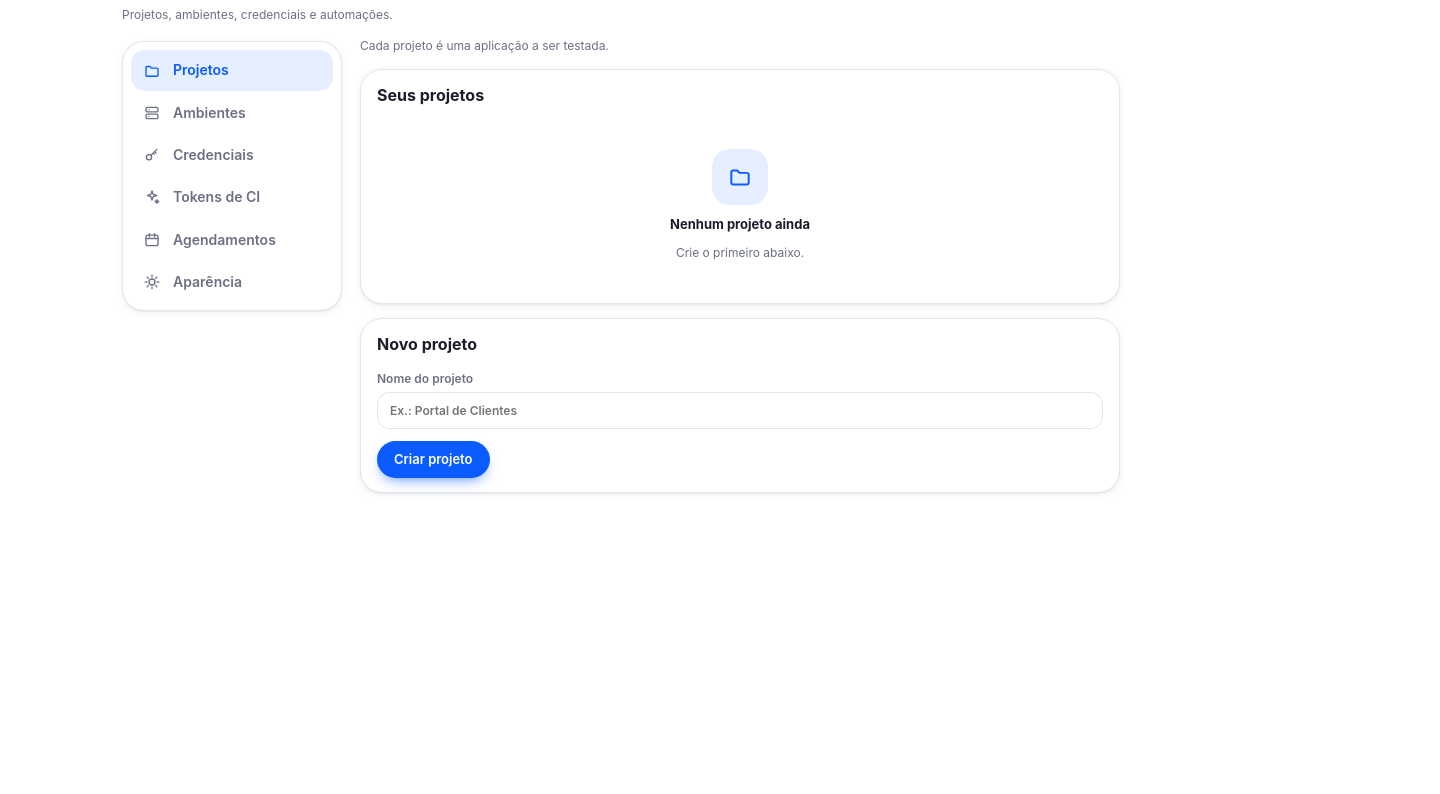
Settings › lista os ambientes com o que importa de cada um
The width and height of the screenshot is (1440, 794).
Click the tab "Ambientes" at [232, 113], box [131, 93, 333, 133]
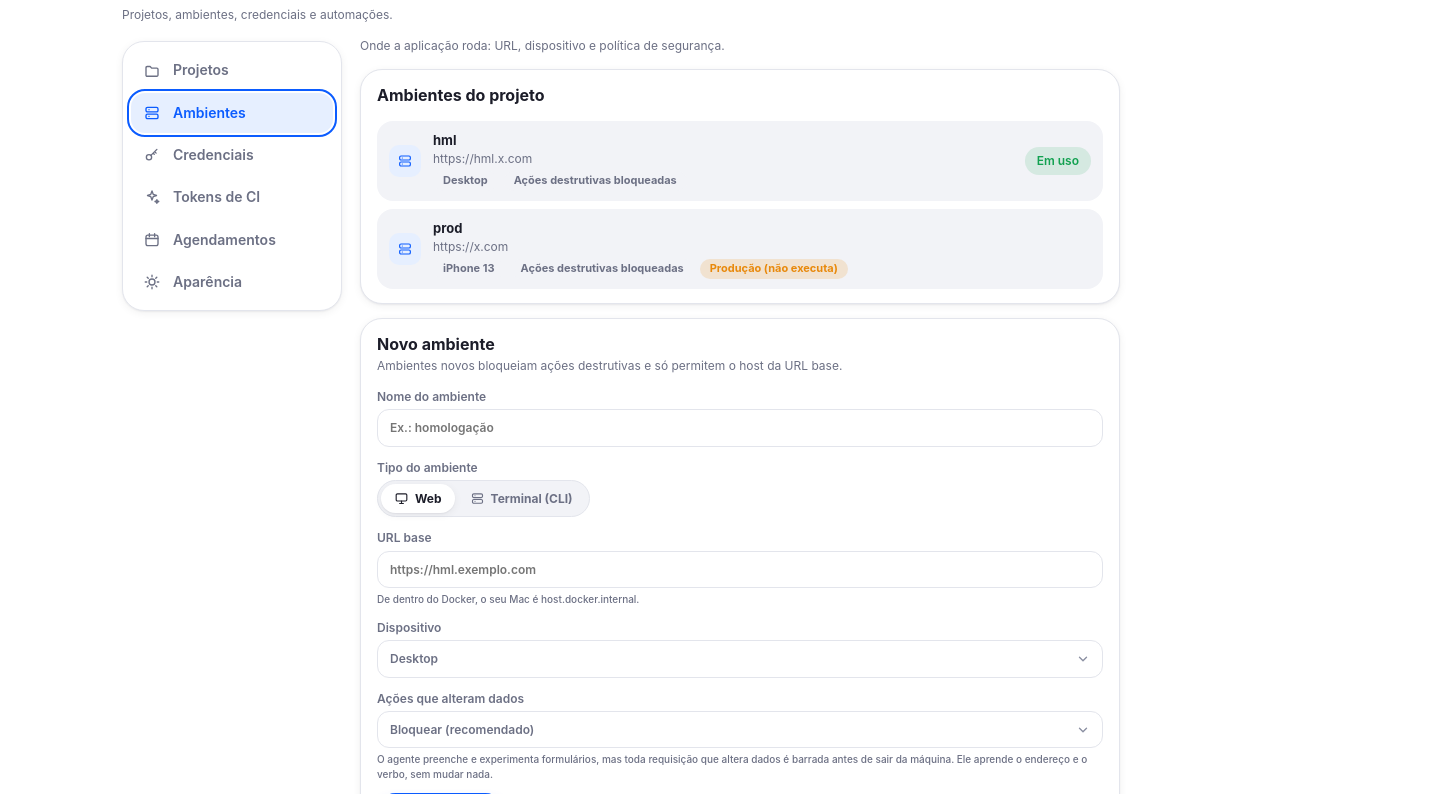
expect the text "https://hml.x.com" is shown: met, box [433, 151, 532, 166]
expect the text "iPhone 13" is shown: met, box [433, 259, 505, 279]
expect the text "Produção (não executa)" is shown: met, box [700, 259, 848, 279]
